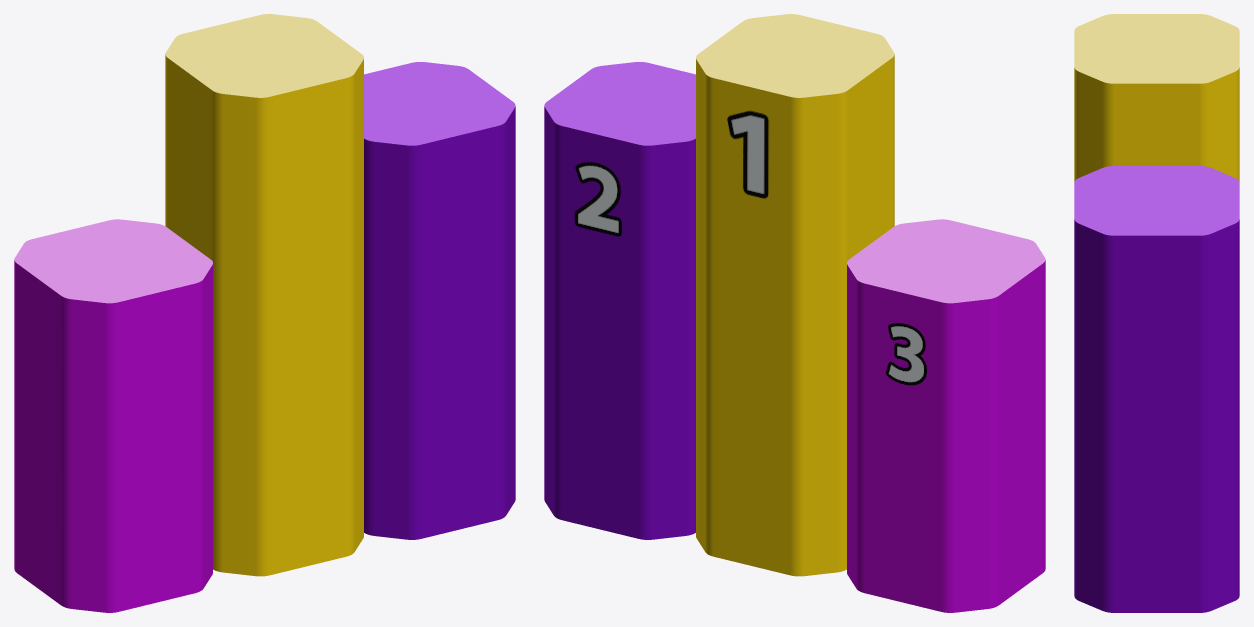
File: end model.fbx
3 renders of one model, left to right at view 1: azimuth 30°, elevation 25°; view 2: azimuth 150°, elevation 25°; view 3: azimuth 270°, elevation 25°, orthographic. The views are drawn at different scales.
Parts seen in each view (by area): view 1: pCube1, pCube2, pCube3; view 2: pCube1, pCube2, pCube3; view 3: pCube3, pCube1.
Part boxes in pixels (box(x1,y1,x2,y2)): pCube1: box(165, 14, 363, 576); pCube2: box(14, 219, 212, 612); pCube3: box(364, 62, 515, 539); pCube1: box(696, 14, 894, 576); pCube2: box(847, 219, 1045, 612); pCube3: box(544, 62, 695, 539); pCube3: box(1074, 166, 1239, 612); pCube1: box(1074, 14, 1239, 182).
Size of the model in its own units: 41.24 by 41.77 by 13.64.
1 material, 1 textured.
